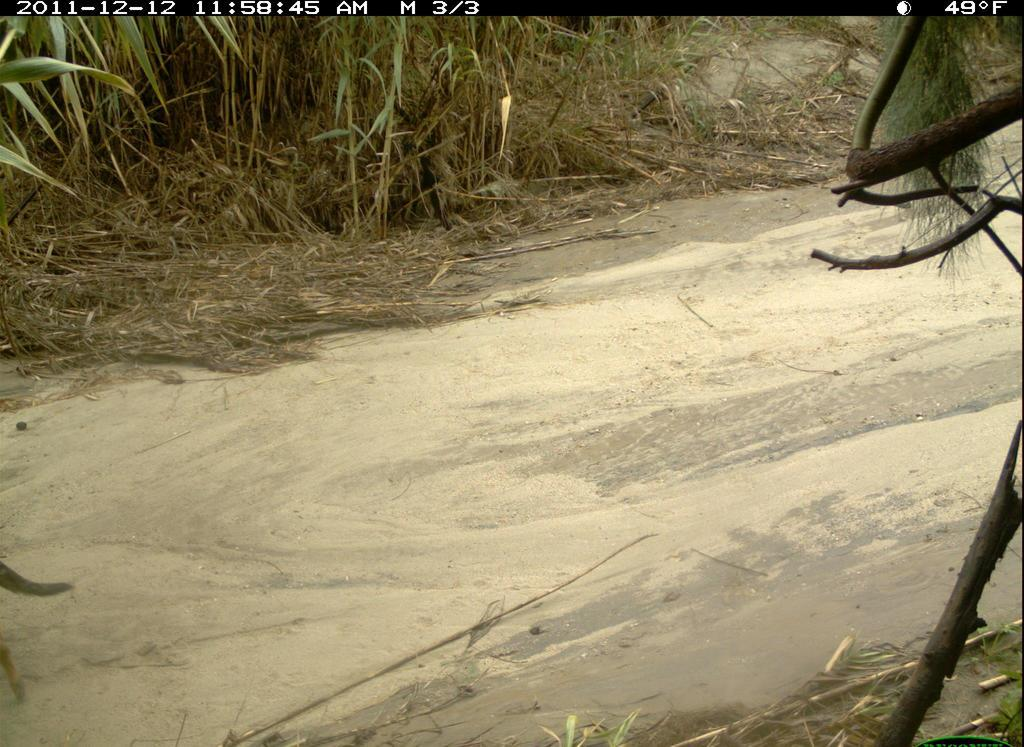dog: (2, 551, 77, 705)
